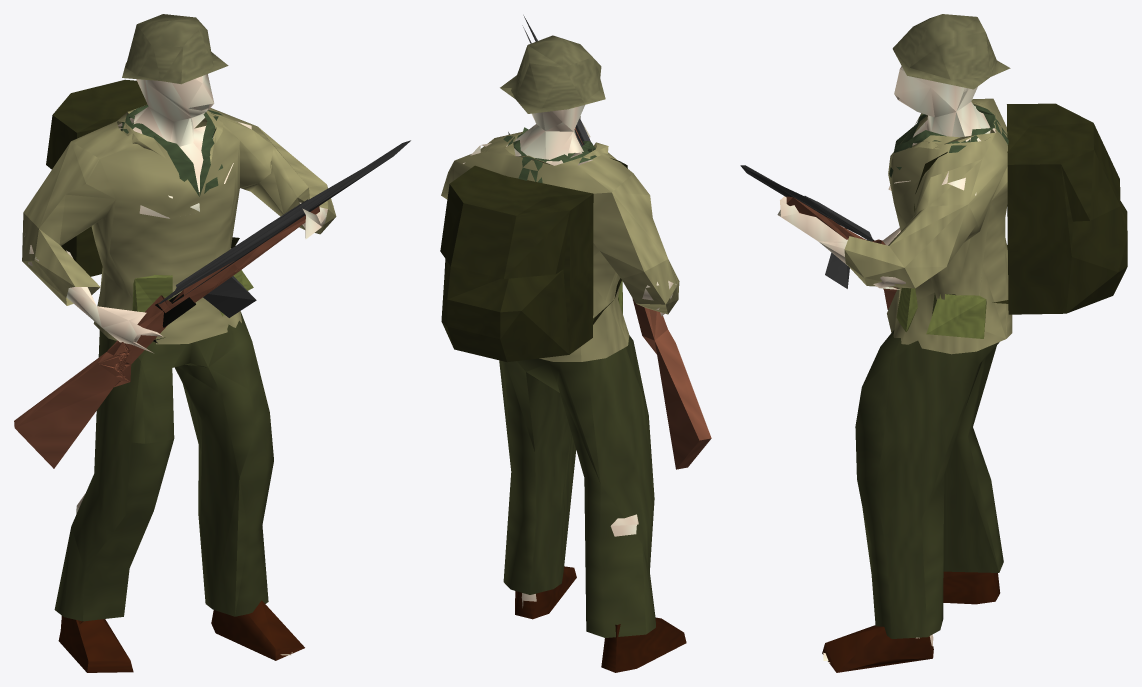
Rendered from cimpletoon.f32c67875649.riflemen.glb.
3 renders of one model, left to right at view 1: azimuth 30°, elevation 25°; view 2: azimuth 150°, elevation 25°; view 3: azimuth 270°, elevation 25°, orthographic. The views are drawn at different scales.
Visible parts, largest first — view 1: riflemen.glb; view 2: riflemen.glb; view 3: riflemen.glb.
Boxes of the visible parts, x1,y1,x2,y2 form: riflemen.glb: (14,14,410,672); riflemen.glb: (440,15,711,672); riflemen.glb: (740,14,1127,672).
Size of the model in its own units: 1.19 by 2.35 by 1.33.
Materials: 1 (1 with a texture image).
